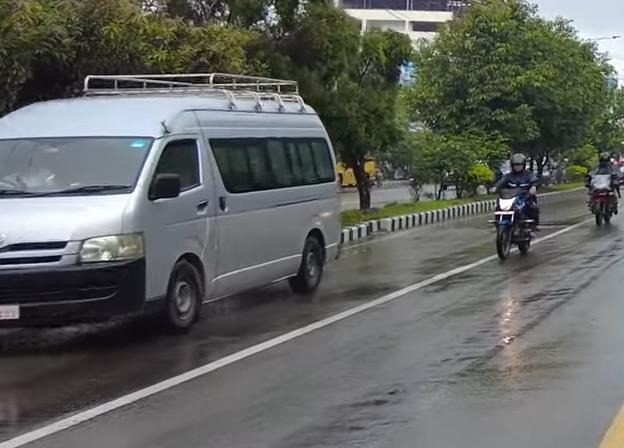bike: (487, 174, 545, 261), (579, 168, 624, 230)
micro_bus: (0, 65, 344, 343)
